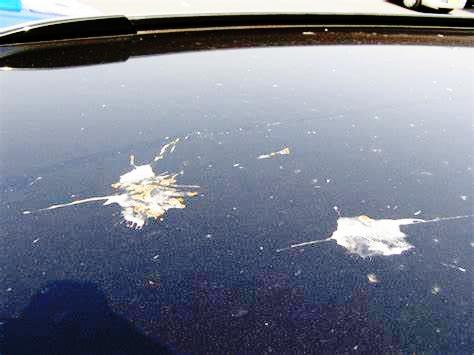Bird Poop: (52, 165, 196, 227), (276, 218, 441, 257), (154, 138, 179, 161), (259, 147, 289, 158)
